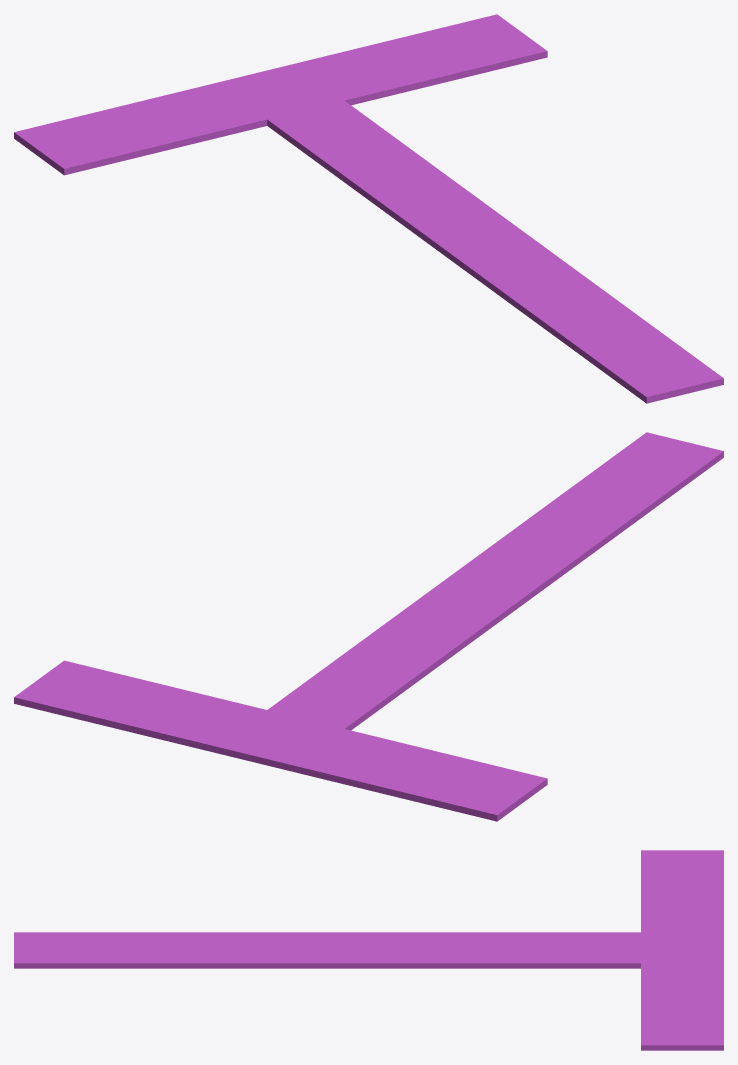
File: IMU_38.gltf
The picture shows the model from 3 angles, top to bottom: view 1: azimuth 30°, elevation 25°; view 2: azimuth 150°, elevation 25°; view 3: azimuth 270°, elevation 25°; orthographic projection. The views are drawn at different scales.
Visible parts, largest first — view 1: mesh7877, mesh7871, mesh7872, mesh7878; view 2: mesh7877, mesh7874, mesh7871; view 3: mesh7877, mesh7879, mesh7875.
Boxes of the visible parts, left/top/right/bottom form: mesh7877: left=14, top=14, right=723, bottom=396; mesh7871: left=267, top=120, right=646, bottom=403; mesh7872: left=64, top=119, right=267, bottom=175; mesh7878: left=345, top=51, right=547, bottom=105; mesh7877: left=14, top=432, right=723, bottom=814; mesh7874: left=14, top=697, right=497, bottom=821; mesh7871: left=345, top=451, right=723, bottom=730; mesh7877: left=14, top=850, right=723, bottom=1045; mesh7879: left=14, top=963, right=640, bottom=968; mesh7875: left=641, top=1045, right=723, bottom=1050.
Size of the model in its own units: 0.000779 by 1e-05 by 0.0012.
